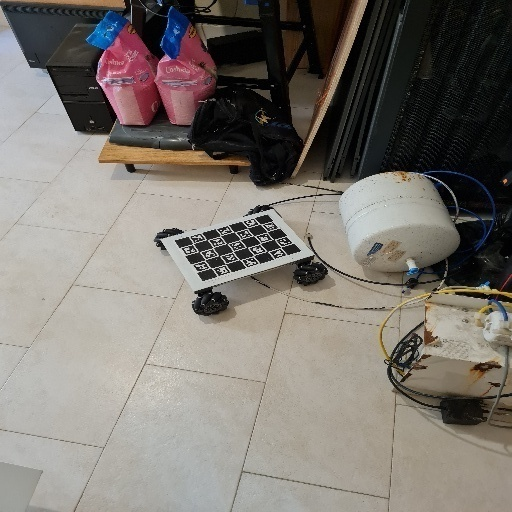Omniwheel: (155, 206, 330, 318)
